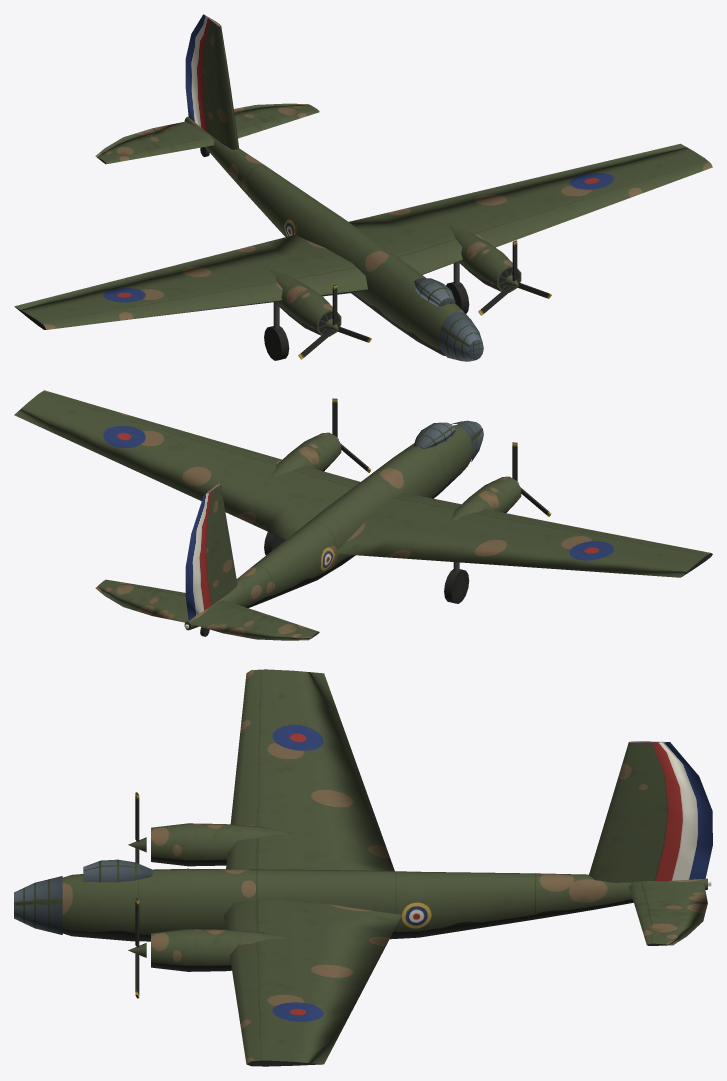
Rendered from bomber.glb.
The picture shows the model from 3 angles, top to bottom: view 1: azimuth 30°, elevation 25°; view 2: azimuth 150°, elevation 25°; view 3: azimuth 270°, elevation 25°; orthographic projection. The views are drawn at different scales.
Visible parts, largest first — view 1: fuselage, prop_left_pales, prop_right_pales, wheel_right; view 2: fuselage, wheel_right, prop_right_pales, prop_left_pales; view 3: fuselage.
Boxes of the visible parts, x1,y1,x2,y2 form: fuselage: (14, 14, 712, 361); prop_left_pales: (478, 240, 551, 315); prop_right_pales: (298, 284, 371, 359); wheel_right: (264, 326, 289, 360); fuselage: (14, 390, 712, 640); wheel_right: (444, 569, 469, 603); prop_right_pales: (512, 442, 551, 516); prop_left_pales: (332, 398, 371, 472); fuselage: (14, 669, 712, 1066).
Bounding box in the file's own units: 26.26 × 7.64 × 19.84.
Materials: 5 (5 with a texture image).
